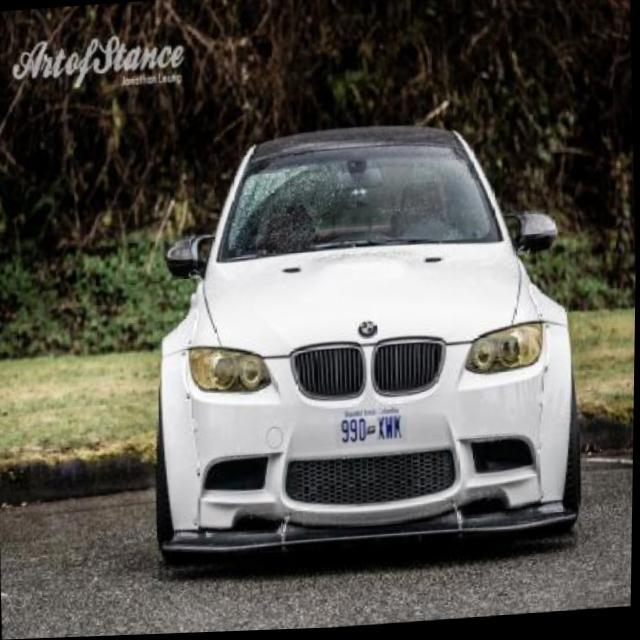license_plate: (336, 406, 408, 451)
